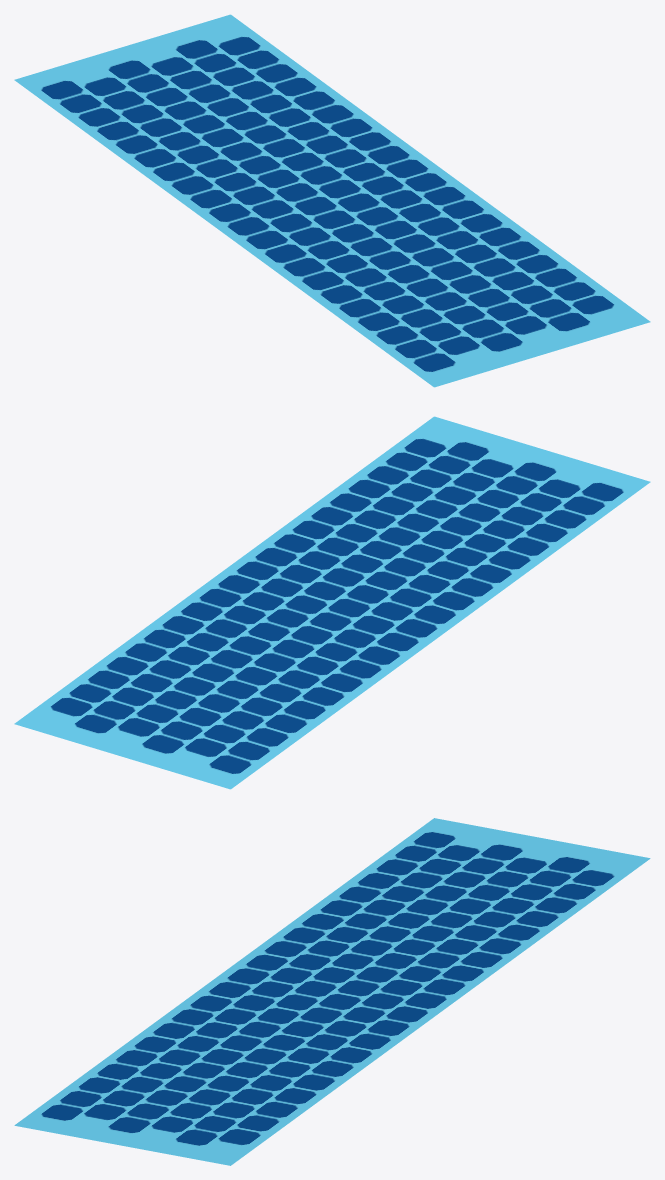
File: keyboard.fbx
3 renders of one model, top to bottom at view 1: azimuth 30°, elevation 25°; view 2: azimuth 150°, elevation 25°; view 3: azimuth 330°, elevation 25°, orthographic.
Visible parts, largest first — view 1: Keyboard; view 2: Keyboard; view 3: Keyboard.
Boxes of the visible parts, bbox=[...] form: Keyboard: bbox=[14, 14, 650, 387]; Keyboard: bbox=[14, 416, 650, 789]; Keyboard: bbox=[14, 818, 650, 1165].
Size of the model in its own units: 38.01 by 2.11 by 128.
